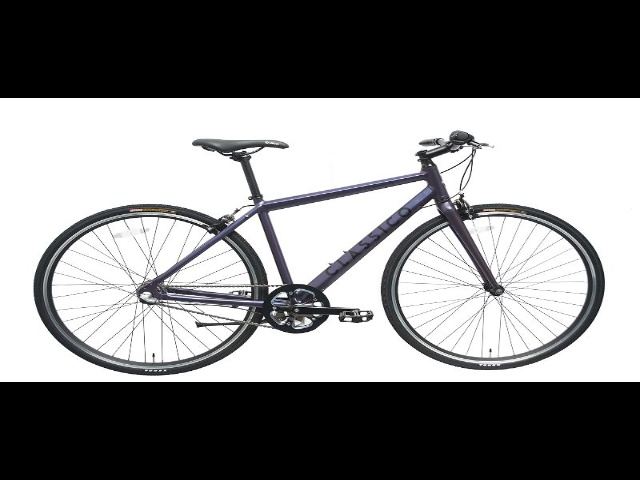bike: (23, 126, 612, 371)
